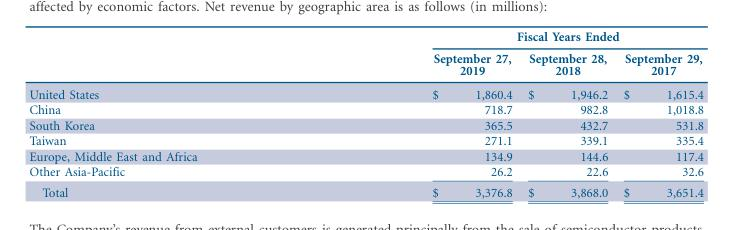table: (28, 28, 702, 199)
table column: (28, 28, 314, 199), (314, 28, 519, 199), (519, 28, 615, 199), (615, 28, 702, 199)
table column header: (28, 28, 702, 82)
table row: (28, 46, 702, 82), (28, 82, 702, 101), (28, 28, 702, 46), (28, 163, 702, 181), (28, 181, 702, 199), (28, 101, 702, 117), (28, 132, 702, 148), (28, 117, 702, 132), (28, 148, 702, 163)
table spanning cell: (314, 28, 702, 46)
